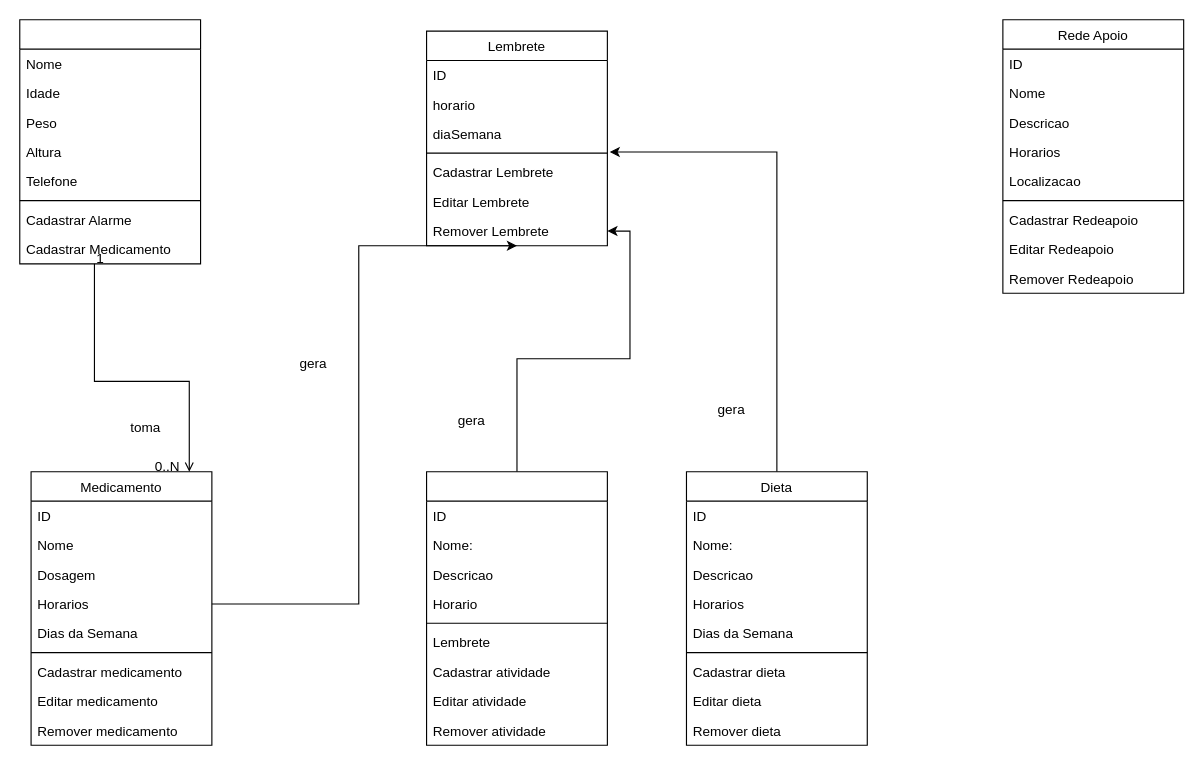
Some shapes in this 1203 by 768 pixel diagram are drawn without their labels. The box of each missing label's shape, as (x1, y1, x2, y2) in pixels:
Atividade Fisica: (425, 471, 607, 745)
Idoso: (19, 19, 201, 264)
